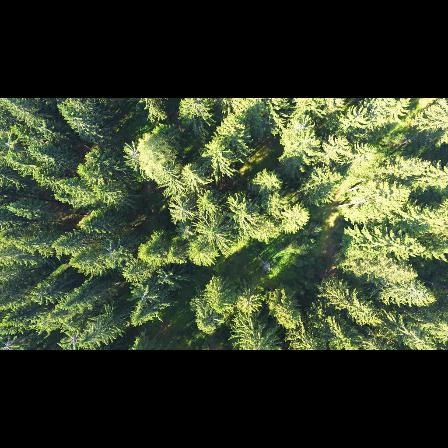Sick: (127, 282, 158, 312), (122, 138, 146, 170), (0, 331, 18, 350)
